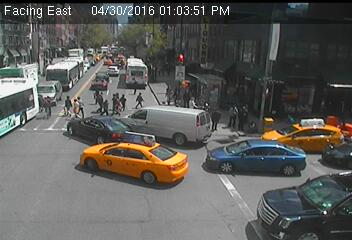neg: (34, 134, 72, 185), (151, 138, 178, 174), (273, 46, 300, 82), (202, 151, 228, 186), (288, 95, 311, 126), (100, 165, 121, 193), (248, 169, 266, 193), (48, 37, 64, 58), (122, 43, 138, 63), (232, 51, 247, 71), (185, 46, 200, 65)
pos: (208, 106, 224, 127), (134, 89, 150, 110), (227, 106, 242, 127), (68, 98, 83, 117), (184, 92, 198, 110), (63, 93, 77, 111), (119, 90, 131, 107), (91, 88, 102, 102), (102, 98, 112, 112)
